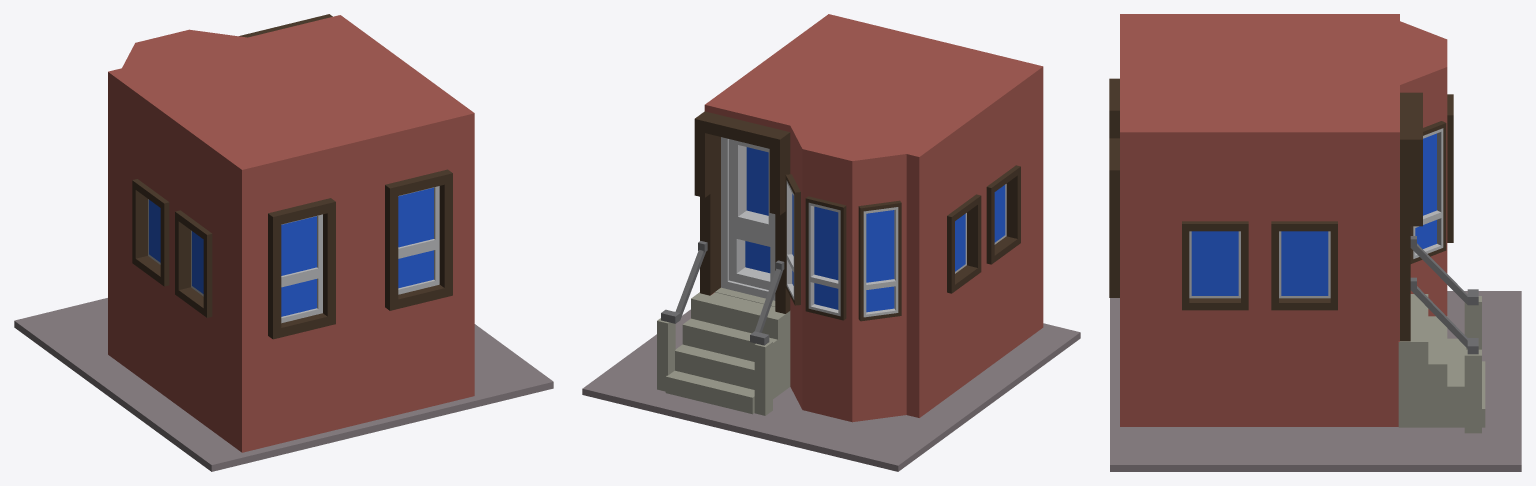
Rendered from building_1x1_3_g.glb.
The picture shows the model from 3 angles, left to right: view 1: azimuth 30°, elevation 25°; view 2: azimuth 150°, elevation 25°; view 3: azimuth 270°, elevation 25°; orthographic projection. The views are drawn at different scales.
Visible parts, largest first — view 1: FirstFloor; view 2: FirstFloor; view 3: FirstFloor.
Boxes of the visible parts, x1=… form: FirstFloor: x1=14, y1=14, x2=553, y2=471; FirstFloor: x1=582, y1=14, x2=1080, y2=471; FirstFloor: x1=1109, y1=14, x2=1521, y2=471.
Bounding box in the file's own units: 2 × 1.62 × 2.
